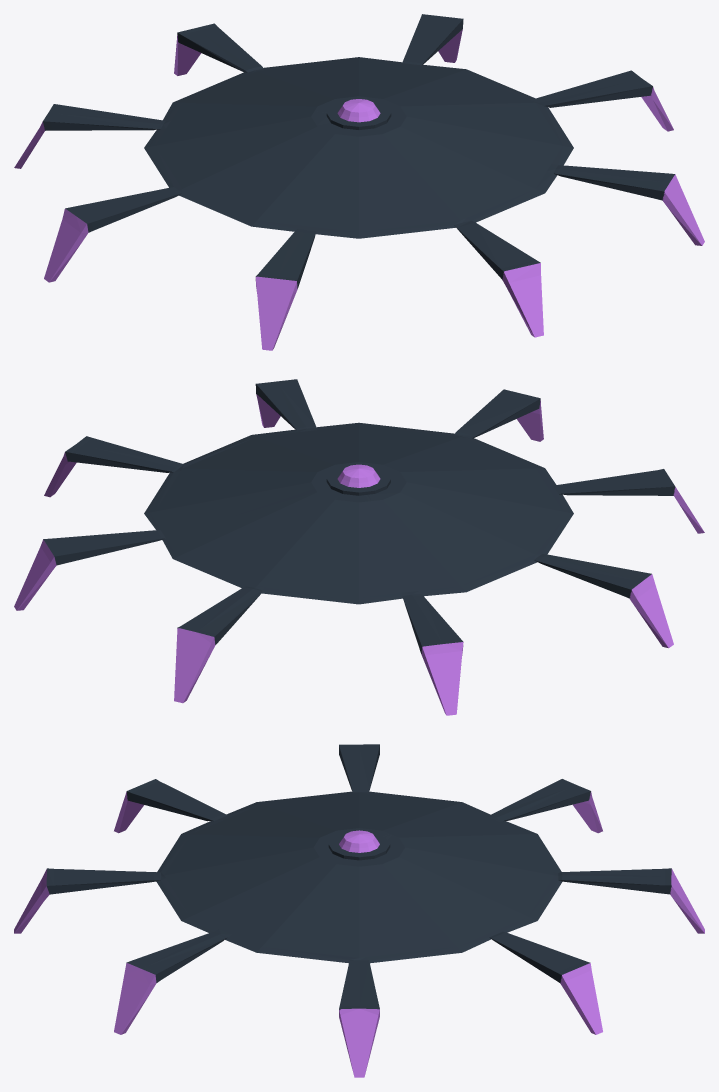
Rendered from Spider_Plant_000004.obj.
3 views of the same model, one above another, from view 1: azimuth 30°, elevation 25°; view 2: azimuth 150°, elevation 25°; view 3: azimuth 270°, elevation 25° (orthographic). The views are drawn at different scales.
Parts seen in each view (by area): view 1: Circle_Circle.001; view 2: Circle_Circle.001; view 3: Circle_Circle.001.
Boxes of the visible parts, left/top/right/bottom form: Circle_Circle.001: left=14, top=14, right=704, bottom=350; Circle_Circle.001: left=14, top=379, right=704, bottom=715; Circle_Circle.001: left=14, top=744, right=704, bottom=1077.
Size of the model in its own units: 3.36 by 0.522 by 3.36.
